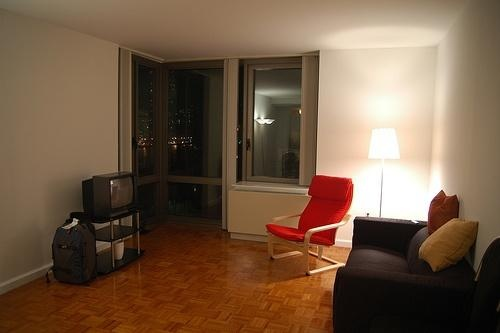chair: (266, 174, 355, 277)
sofa: (333, 217, 476, 333)
tvmonitor: (80, 171, 139, 223)
